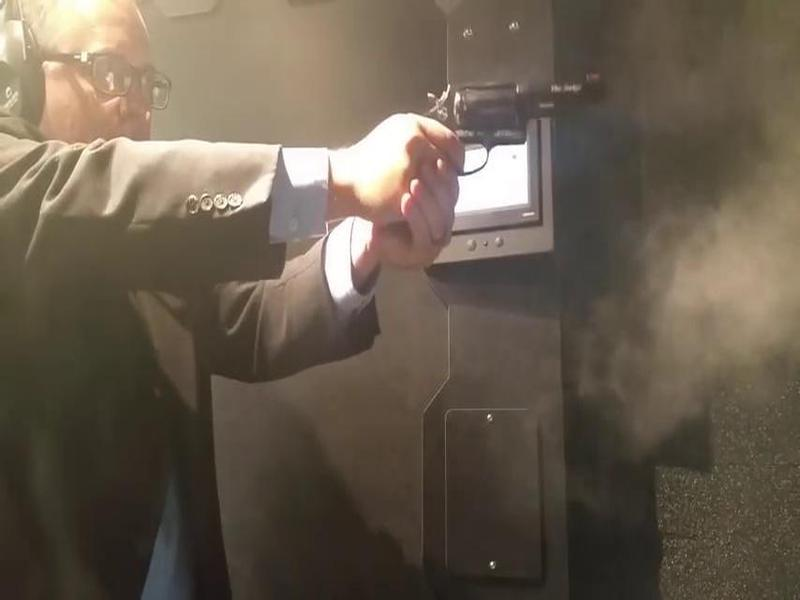Revolver: (405, 54, 617, 208)
